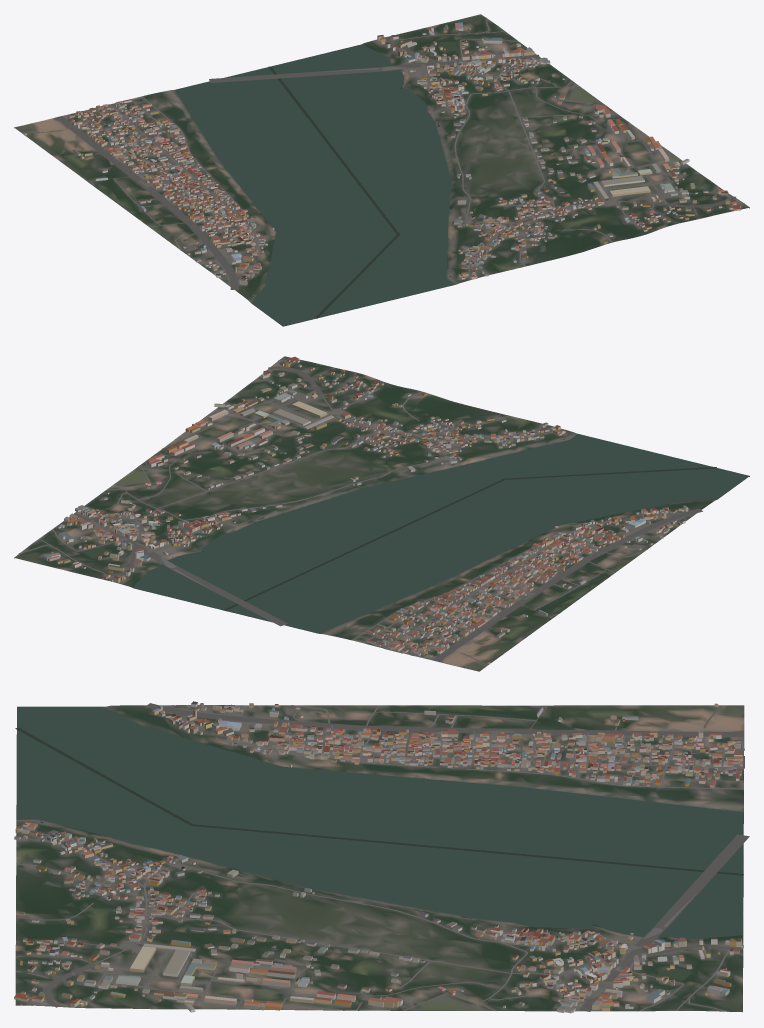
3 views of the same model, one above another, from view 1: azimuth 30°, elevation 25°; view 2: azimuth 150°, elevation 25°; view 3: azimuth 270°, elevation 25° (orthographic). The views are drawn at different scales.
Parts seen in each view (by area): view 1: ground, water, buildings, roads; view 2: ground, water, buildings, roads; view 3: ground, water, buildings, roads.
Boxes of the visible parts, x1,y1,x2,y2 form: ground: (14,14,749,326); water: (175,41,458,326); buildings: (23,22,740,285); roads: (22,17,747,289); ground: (14,356,749,671); water: (84,433,748,633); buildings: (44,356,688,664); roads: (18,357,702,667); ground: (15,705,744,1012); water: (15,706,743,980); buildings: (14,701,743,1013); roads: (15,703,749,1011).
Bounding box in the file's own units: 1421 × 28.78 × 1418.
